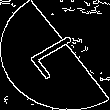L_NE: (20, 28, 90, 82)
